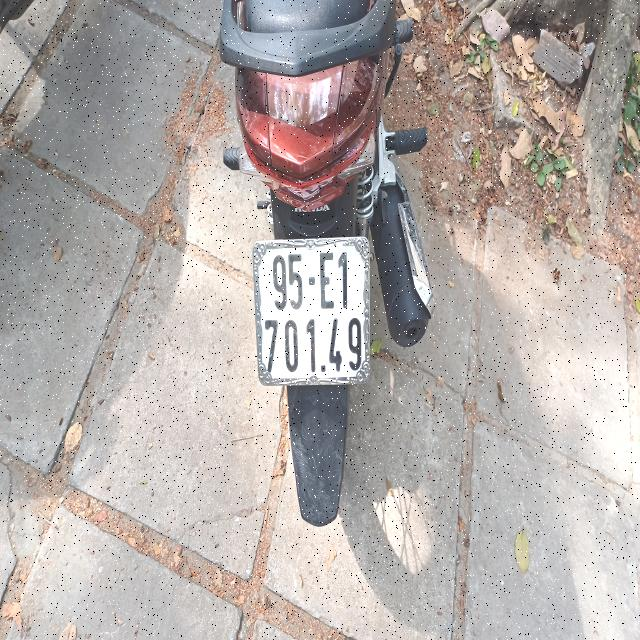0: (285, 320, 299, 371)
1: (338, 253, 349, 309), (305, 316, 316, 372)
4: (329, 316, 344, 374)
5: (288, 252, 304, 308)
7: (264, 318, 278, 374)
9: (272, 253, 288, 311), (347, 317, 362, 374)
E: (318, 249, 334, 311)
